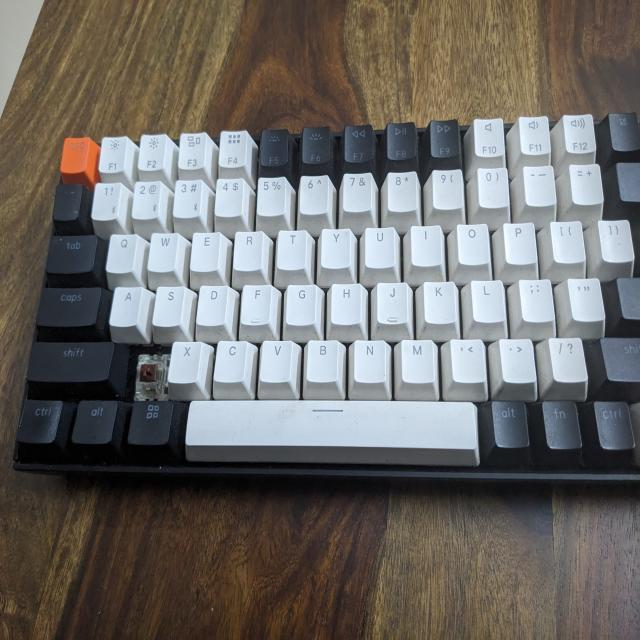C: (133, 348, 166, 400)
